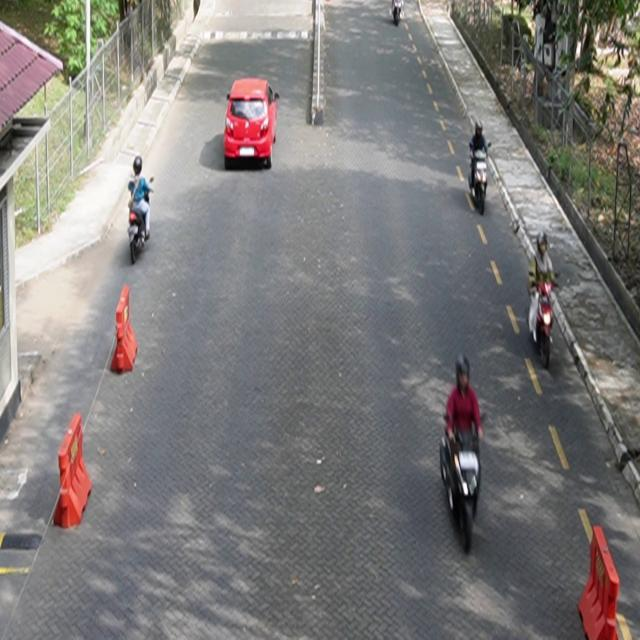car: (225, 77, 280, 170)
